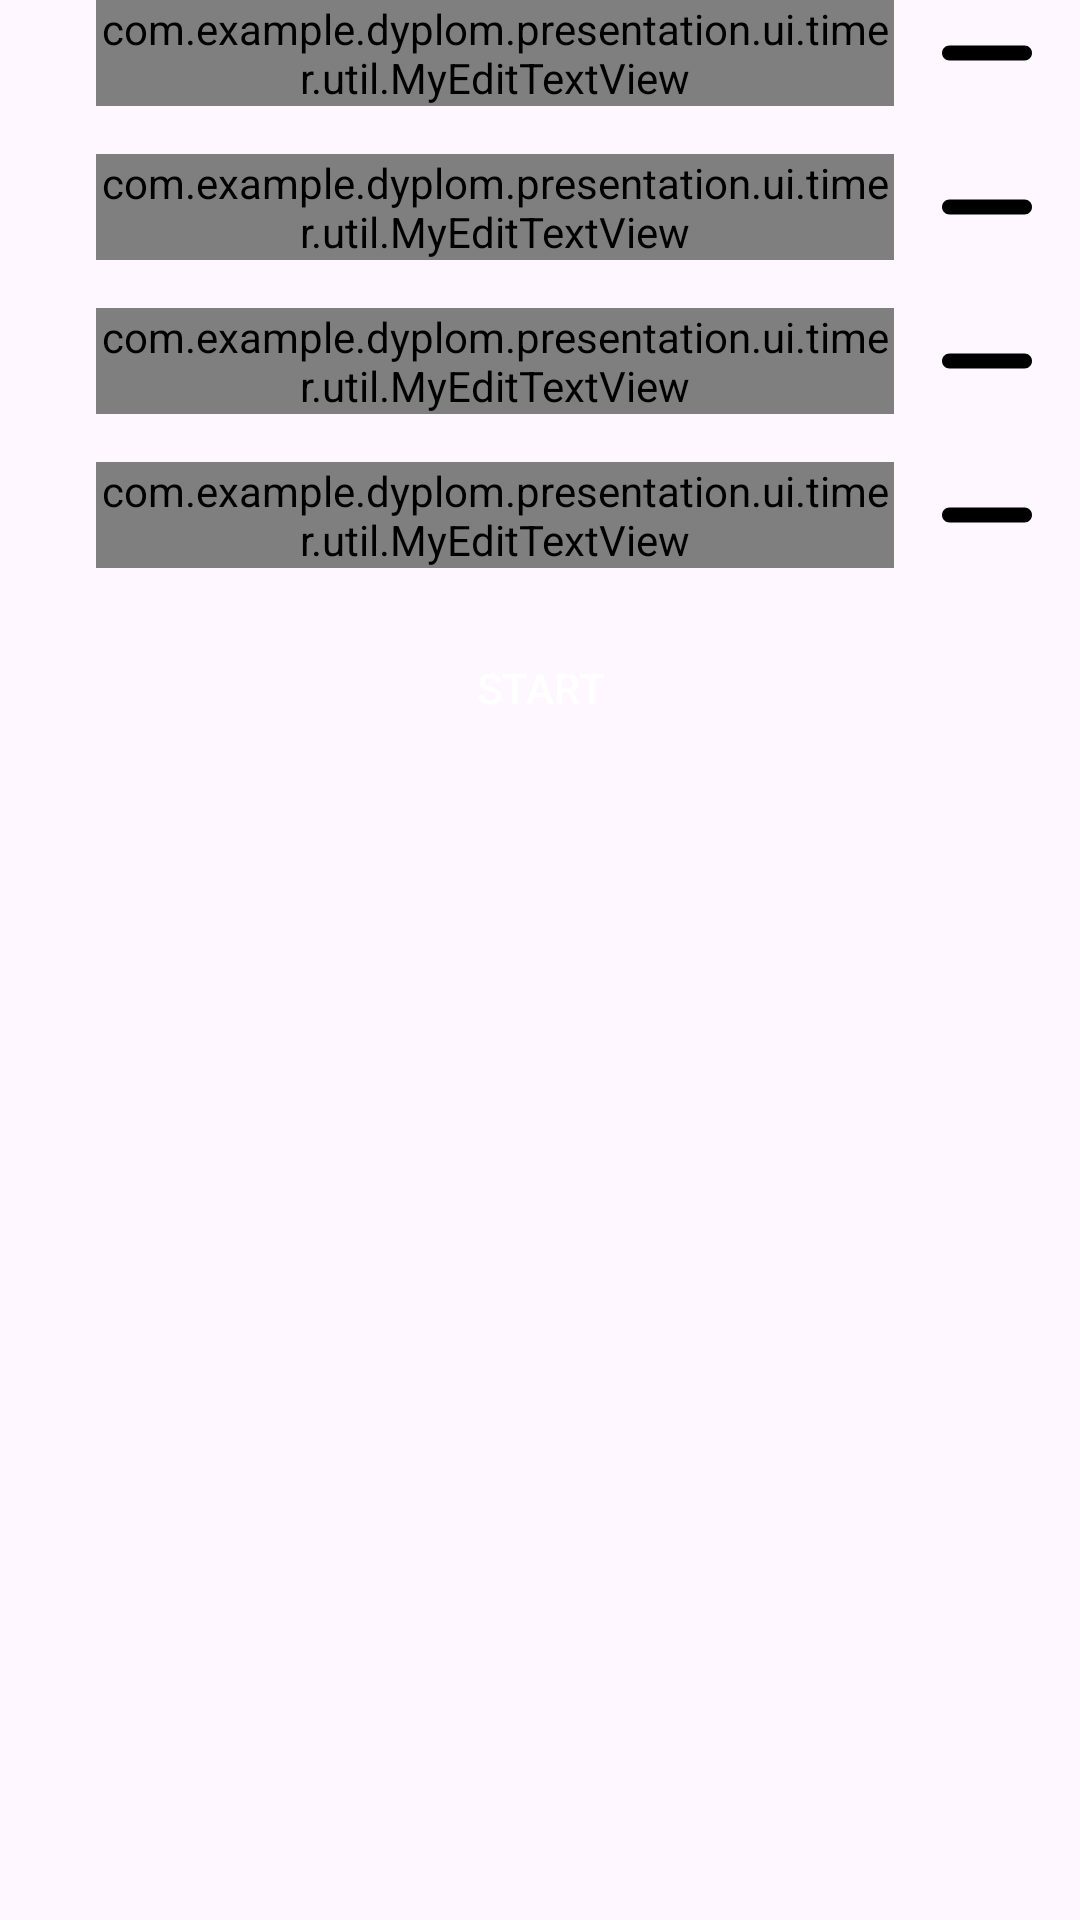

Where icons sit on this 1080 × 1920 app screen, as [x1=x1, y1=y1, x2=x2, y2=y2]:
minus: [x1=942, y1=45, x2=1032, y2=61], [x1=942, y1=199, x2=1032, y2=215], [x1=942, y1=353, x2=1032, y2=369], [x1=942, y1=507, x2=1032, y2=523]
